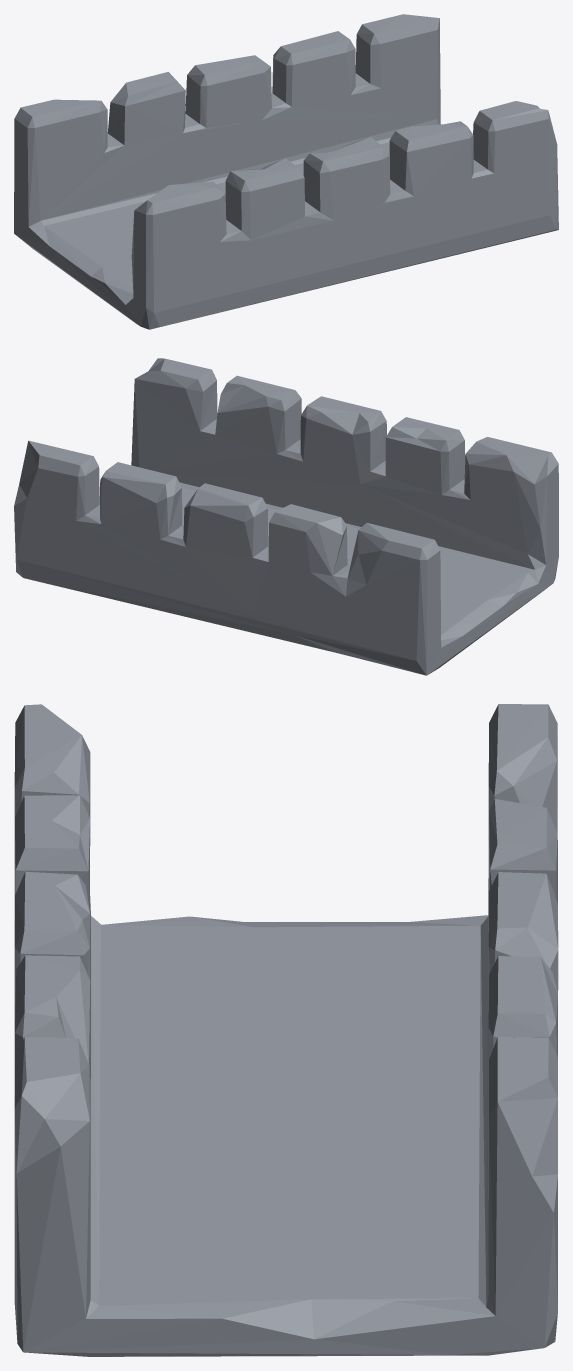
Rendered from SM_wall_battlement_04.fbx.
3 renders of one model, top to bottom at view 1: azimuth 30°, elevation 25°; view 2: azimuth 150°, elevation 25°; view 3: azimuth 270°, elevation 25°, orthographic. The views are drawn at different scales.
Visible parts, largest first — view 1: wall_battlement_04; view 2: wall_battlement_04; view 3: wall_battlement_04.
Part boxes in pixels (left/top/right/bottom): wall_battlement_04: left=14, top=14, right=558, bottom=329; wall_battlement_04: left=14, top=358, right=558, bottom=675; wall_battlement_04: left=14, top=704, right=558, bottom=1356.
Bounding box in the file's own units: 510 × 153 × 291.
